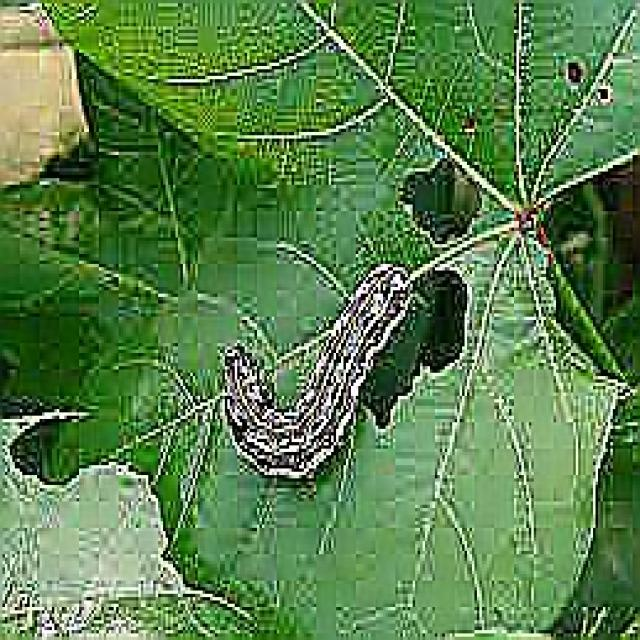Armyworm: (191, 243, 408, 488)
Armyworm_damage: (8, 401, 112, 512), (404, 127, 487, 264)
